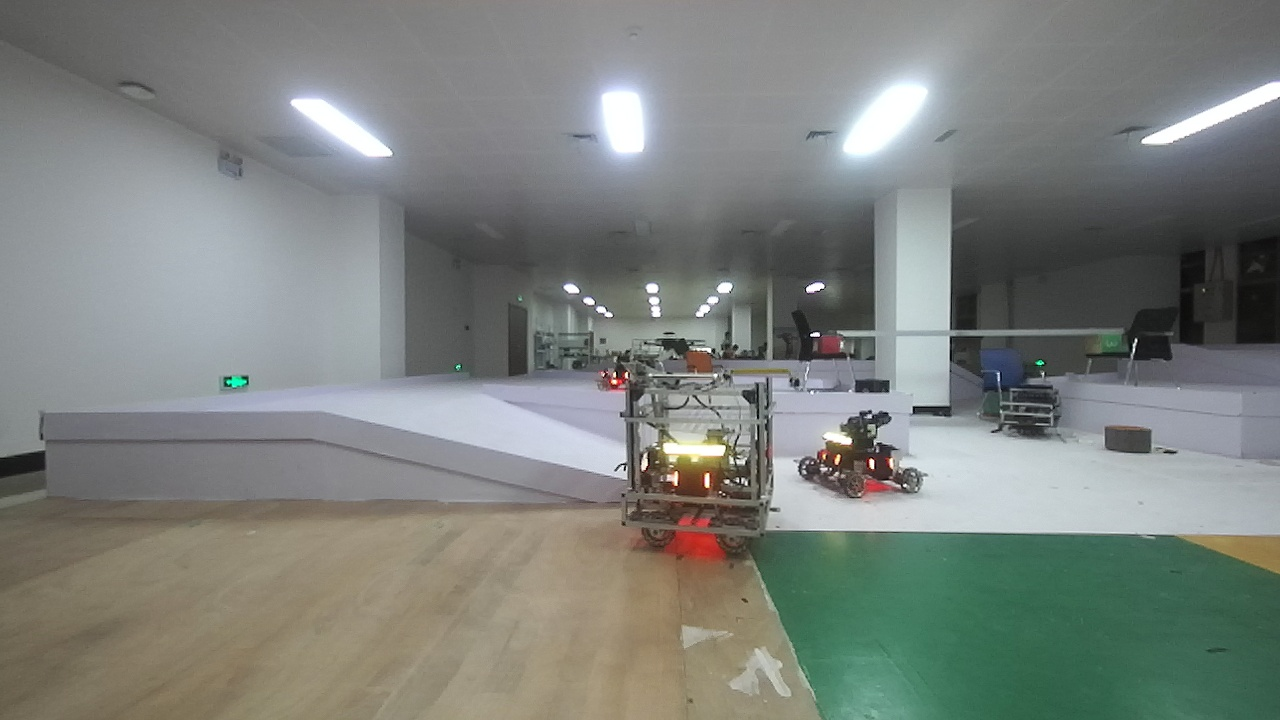car: (627, 351, 782, 564), (805, 398, 925, 515), (594, 351, 642, 398)
